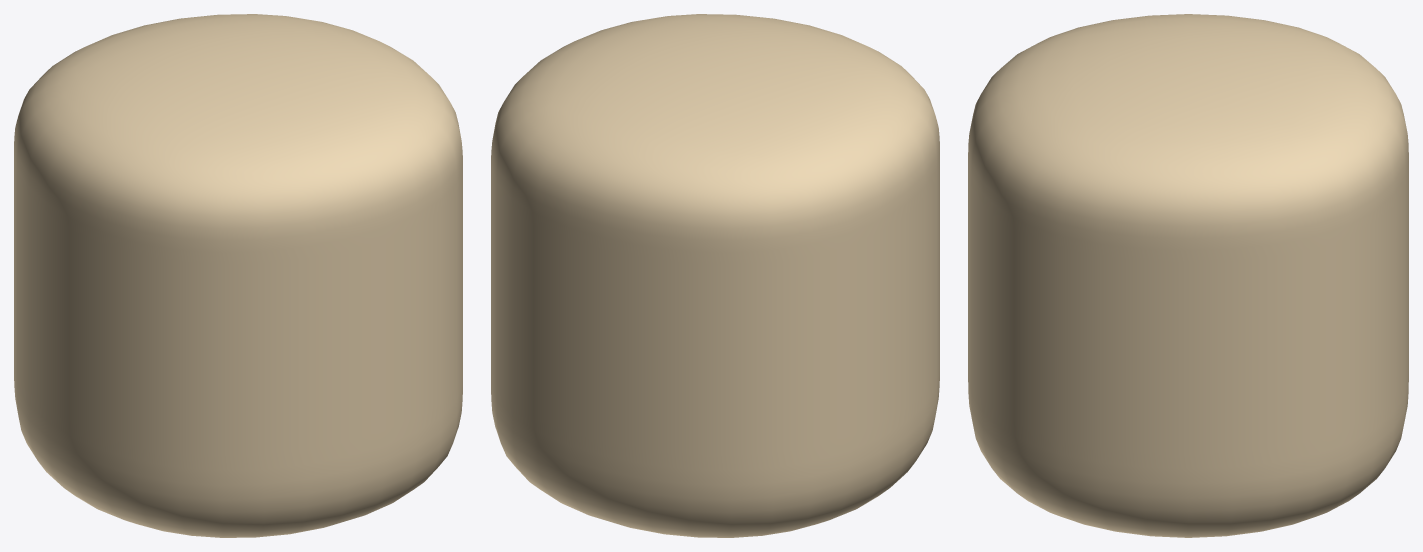
File: Marshmallow.fbx
The picture shows the model from 3 angles, left to right: view 1: azimuth 30°, elevation 25°; view 2: azimuth 150°, elevation 25°; view 3: azimuth 270°, elevation 25°; orthographic projection.
Parts seen in each view (by area): view 1: Cube.004; view 2: Cube.004; view 3: Cube.004.
Part boxes in pixels (left/top/right/bottom): Cube.004: left=14, top=14, right=462, bottom=537; Cube.004: left=491, top=14, right=939, bottom=537; Cube.004: left=968, top=14, right=1408, bottom=537.
Bounding box in the file's own units: 1.83 × 1.83 × 1.92.
